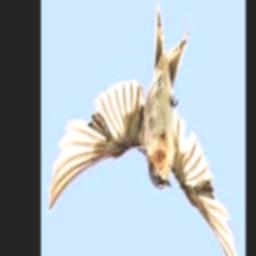Swallow: (47, 0, 237, 256)
